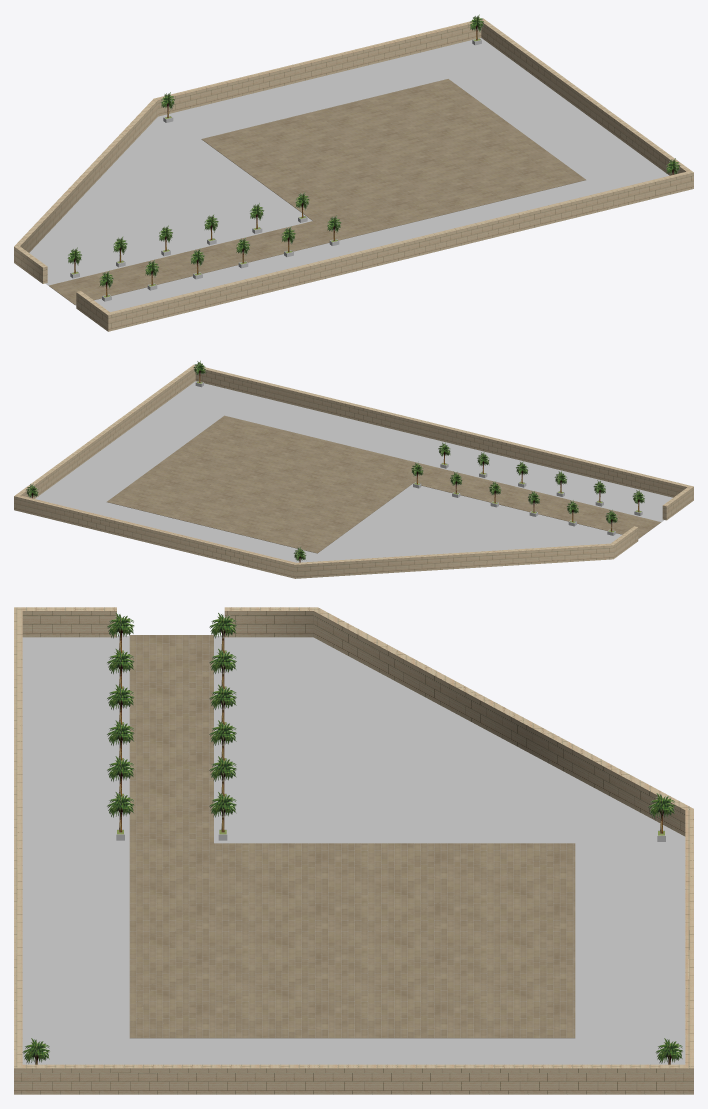
File: ground.fbx
The picture shows the model from 3 angles, top to bottom: view 1: azimuth 30°, elevation 25°; view 2: azimuth 150°, elevation 25°; view 3: azimuth 270°, elevation 25°; orthographic projection. The views are drawn at different scales.
Visible parts, largest first — view 1: Extrude_2, Extrude_1, Sweep_1; view 2: Extrude_2, Extrude_1, Sweep_1; view 3: Extrude_2, Extrude_1, Sweep_1.
Part boxes in pixels (left/top/right/bottom): Extrude_2: left=29, top=38, right=669, bottom=312; Extrude_1: left=49, top=79, right=585, bottom=304; Sweep_1: left=14, top=18, right=693, bottom=331; Extrude_2: left=35, top=381, right=672, bottom=562; Extrude_1: left=107, top=415, right=661, bottom=553; Sweep_1: left=14, top=364, right=693, bottom=578; Extrude_2: left=22, top=635, right=685, bottom=1064; Extrude_1: left=129, top=635, right=575, bottom=1038; Sweep_1: left=14, top=607, right=693, bottom=1094.
Size of the model in its own units: 373 by 17.52 by 233.
